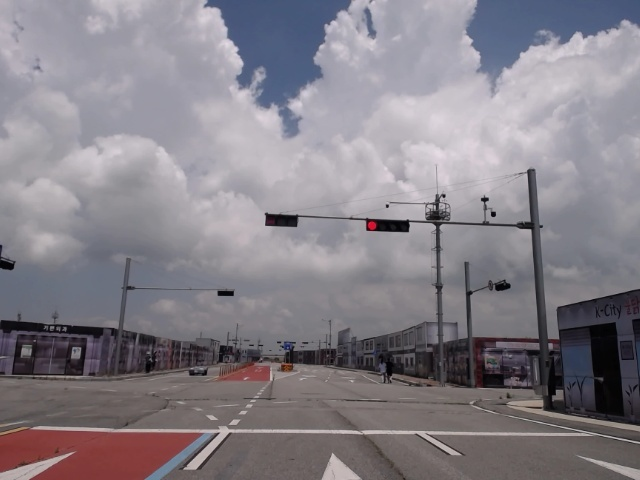red_4: (366, 220, 408, 232)
